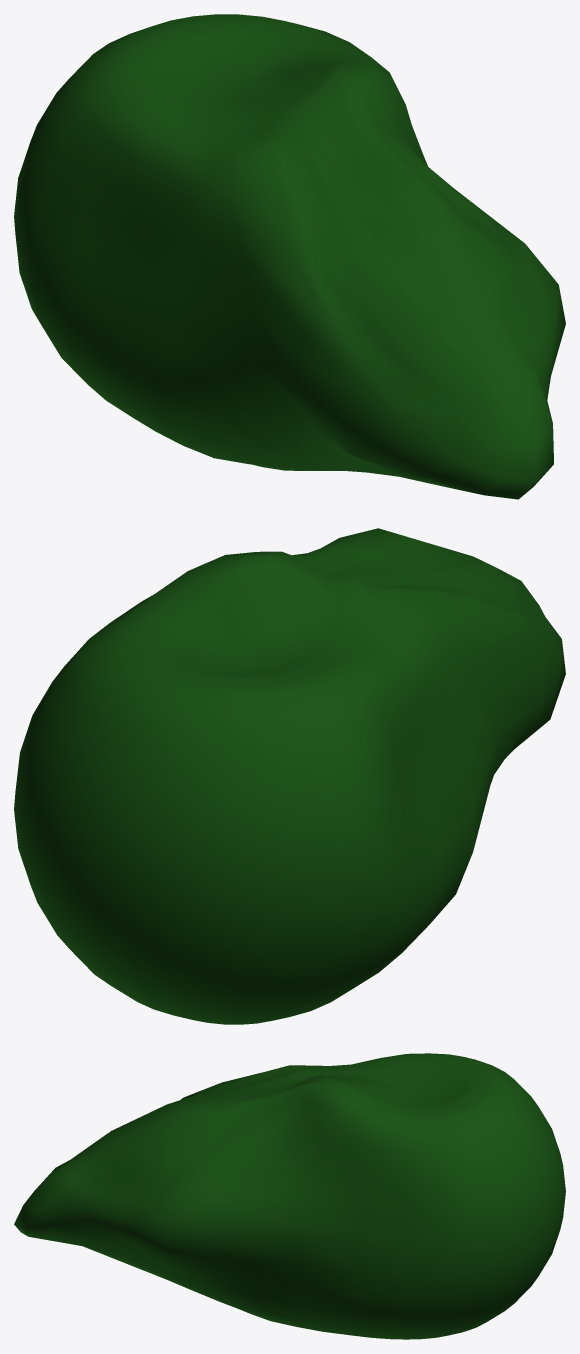
The model's file is SM_Roots_Head2.fbx.
The picture shows the model from 3 angles, top to bottom: view 1: azimuth 30°, elevation 25°; view 2: azimuth 150°, elevation 25°; view 3: azimuth 270°, elevation 25°; orthographic projection. The views are drawn at different scales.
Visible parts, largest first — view 1: Sphere.001; view 2: Sphere.001; view 3: Sphere.001.
Boxes of the visible parts, <box> form: Sphere.001: <box>14,14,565,499</box>; Sphere.001: <box>14,528,565,1024</box>; Sphere.001: <box>14,1053,565,1339</box>.
Bounding box in the file's own units: 1.91 × 1.94 × 3.72.
